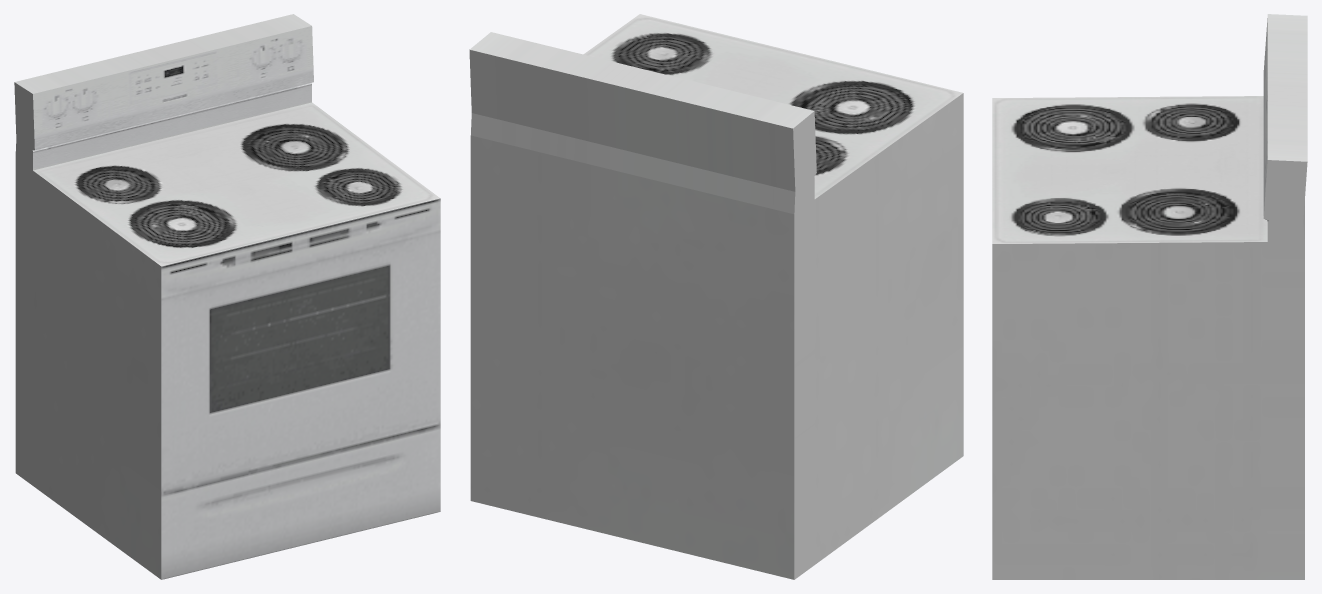
Rendered from Stove.fbx_Scene.fbx.
3 renders of one model, left to right at view 1: azimuth 30°, elevation 25°; view 2: azimuth 150°, elevation 25°; view 3: azimuth 270°, elevation 25°, orthographic. The views are drawn at different scales.
Visible parts, largest first — view 1: Stove; view 2: Stove; view 3: Stove.
Part boxes in pixels (x1,y1,x2,y2): Stove: [14, 14, 440, 579]; Stove: [469, 14, 963, 579]; Stove: [992, 14, 1307, 579].
Size of the model in its own units: 82.25 by 110 by 75.03.
3 materials, 3 textured.
